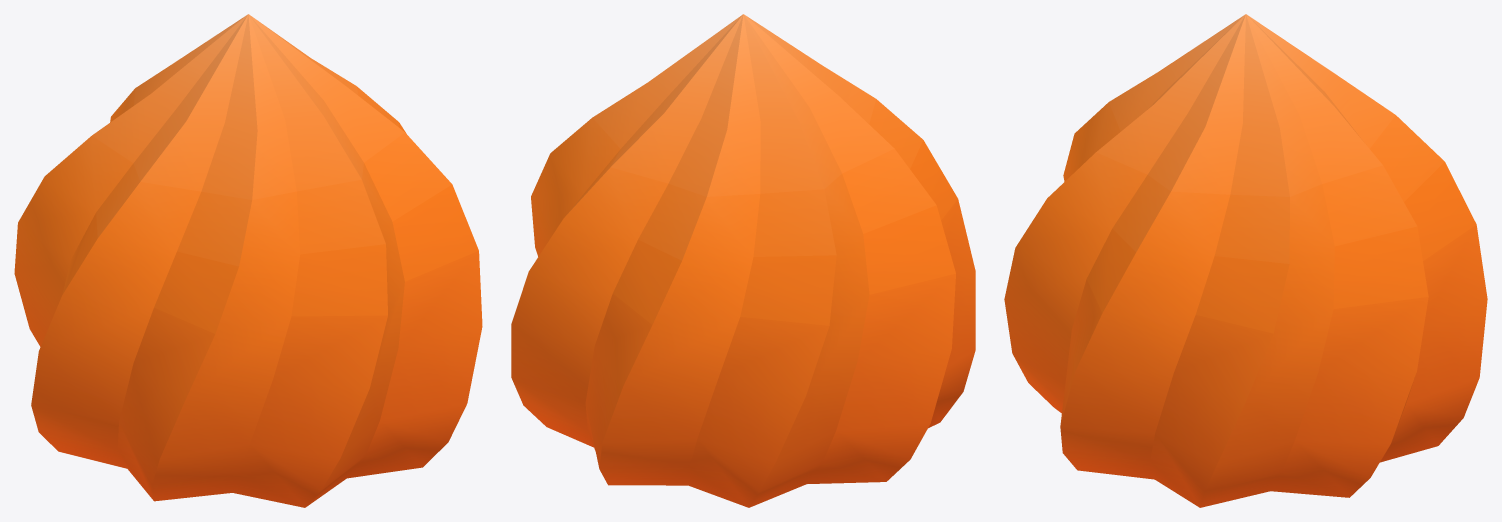
The model's file is Fireplace_fire_001.glb.
3 renders of one model, left to right at view 1: azimuth 30°, elevation 25°; view 2: azimuth 150°, elevation 25°; view 3: azimuth 270°, elevation 25°, orthographic.
Parts seen in each view (by area): view 1: Fireplace_fire_001; view 2: Fireplace_fire_001; view 3: Fireplace_fire_001.
Part boxes in pixels (x1,y1,x2,y2): Fireplace_fire_001: [14, 14, 482, 507]; Fireplace_fire_001: [511, 14, 975, 507]; Fireplace_fire_001: [1004, 14, 1487, 507].
Size of the model in its own units: 0.5395 by 0.5217 by 0.5395.
Materials: 1 (1 with a texture image).
